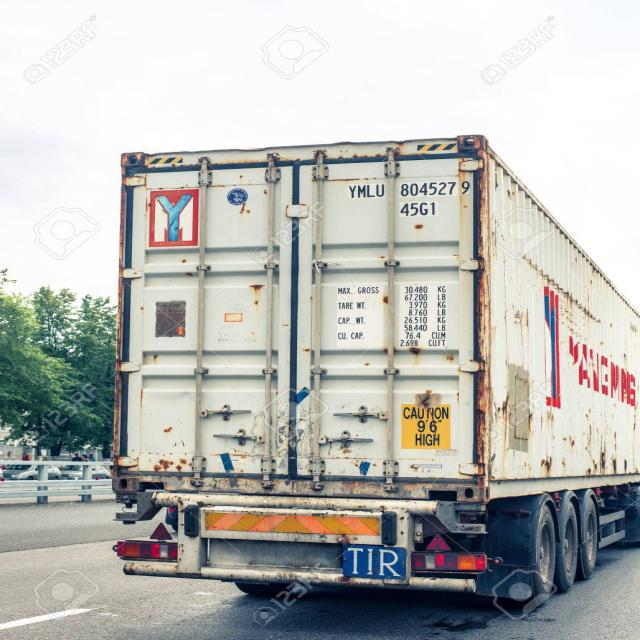normal_truck: (109, 160, 640, 640)
